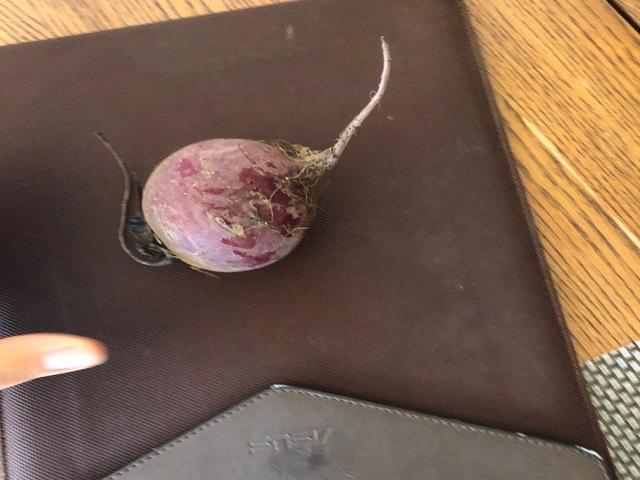beet: (96, 38, 391, 272)
